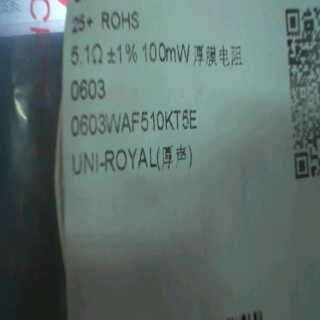5.1R: (68, 40, 105, 70)
